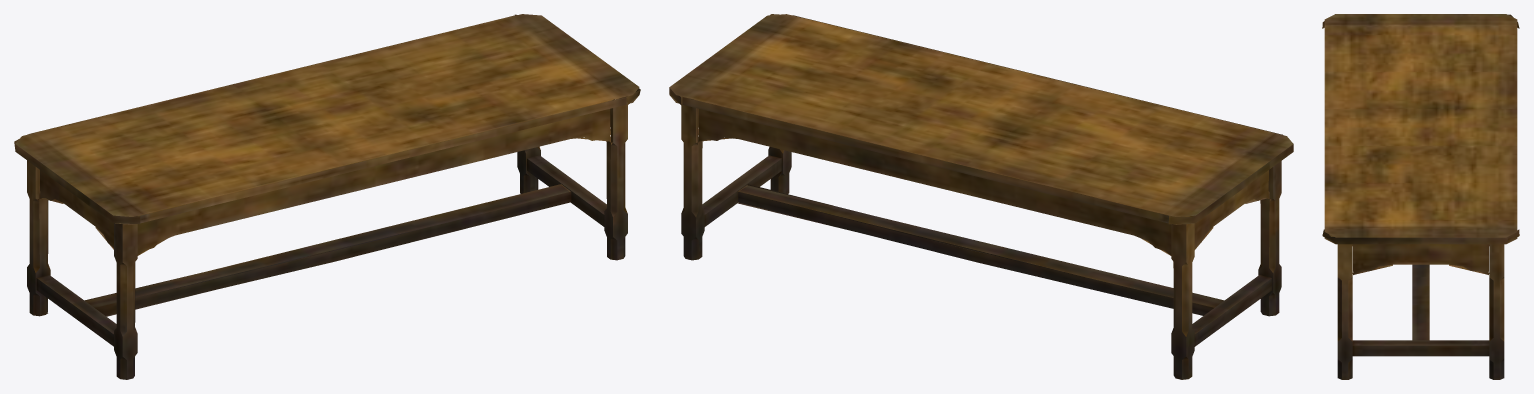
The model's file is prop_market_stall.glb.
The picture shows the model from 3 angles, left to right: view 1: azimuth 30°, elevation 25°; view 2: azimuth 150°, elevation 25°; view 3: azimuth 270°, elevation 25°; orthographic projection. The views are drawn at different scales.
Parts seen in each view (by area): view 1: PROP_MarketStall; view 2: PROP_MarketStall; view 3: PROP_MarketStall.
Boxes of the visible parts, box(x1,y1,x2,y2) form: PROP_MarketStall: box(14, 14, 640, 379); PROP_MarketStall: box(669, 14, 1293, 379); PROP_MarketStall: box(1322, 14, 1519, 379).
Bounding box in the file's own units: 3.1 × 0.95 × 1.16.
1 material, 1 textured.
